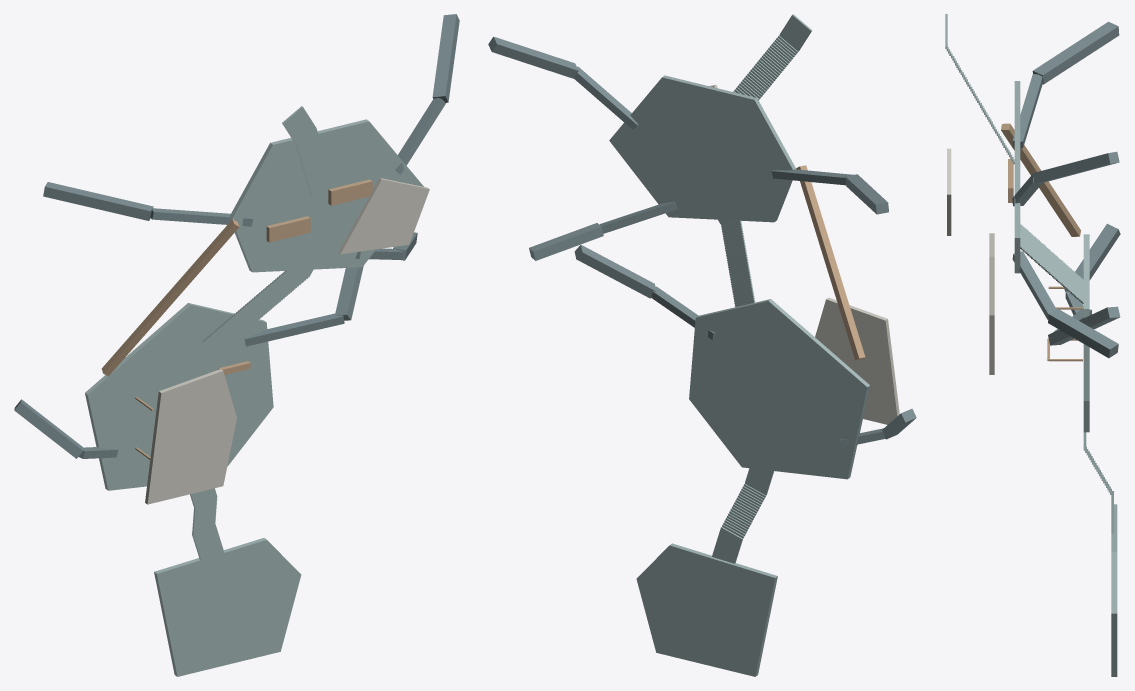
File: minus_living.glb
3 views of the same model, side by side, from view 1: azimuth 30°, elevation 25°; view 2: azimuth 150°, elevation 25°; view 3: azimuth 270°, elevation 25° (orthographic). The views are drawn at different scales.
Visible parts, largest first — view 1: maker_deck, arrival_terrace, research_deck, maker_weather_canopy, research_partial_daylight_shade, route_0_entry, shared_maker_research_transfer, research_rib_0_upper, route_1_exit, research_rib_1_upper, maker_rib_1_lower, maker_rib_0_upper (+6 smaller); view 2: maker_deck, research_deck, arrival_terrace, maker_weather_canopy, shared_maker_research_transfer, research_rib_1_upper, maker_rib_1_upper, research_rib_2_upper, research_rib_1_lower, research_rib_2_lower, research_rib_0_lower, research_rib_0_upper (+3 smaller); view 3: research_rib_0_upper, research_rib_2_upper, shared_maker_research_transfer, research_deck, maker_deck, arrival_terrace, research_rib_1_upper, maker_rib_0_upper, research_rib_2_lower, research_rib_0_lower, maker_weather_canopy, maker_rib_1_upper (+2 smaller).
Part boxes in pixels (<box>): maker_deck: <box>85,303,273,490</box>; arrival_terrace: <box>154,538,301,676</box>; research_deck: <box>230,119,423,272</box>; maker_weather_canopy: <box>145,369,236,504</box>; research_partial_daylight_shade: <box>338,178,429,254</box>; route_0_entry: <box>192,523,242,625</box>; shared_maker_research_transfer: <box>101,219,239,376</box>; research_rib_0_upper: <box>43,182,153,220</box>; route_1_exit: <box>291,205,344,275</box>; research_rib_1_upper: <box>432,14,459,102</box>; maker_rib_1_lower: <box>244,313,344,346</box>; maker_rib_0_upper: <box>14,399,83,458</box>; maker_deck: <box>689,299,869,479</box>; research_deck: <box>609,75,796,222</box>; arrival_terrace: <box>636,543,777,676</box>; maker_weather_canopy: <box>815,297,899,424</box>; shared_maker_research_transfer: <box>796,165,865,360</box>; research_rib_1_upper: <box>488,36,578,78</box>; maker_rib_1_upper: <box>574,245,656,298</box>; research_rib_2_upper: <box>529,223,603,260</box>; research_rib_1_lower: <box>574,66,637,129</box>; research_rib_2_lower: <box>599,201,677,233</box>; research_rib_0_lower: <box>771,169,853,185</box>; research_rib_0_upper: <box>845,174,888,214</box>; research_rib_0_upper: <box>1032,21,1119,84</box>; research_rib_2_upper: <box>1048,308,1118,358</box>; shared_maker_research_transfer: <box>1001,123,1080,236</box>; research_deck: <box>1014,81,1020,273</box>; maker_deck: <box>1083,234,1089,432</box>; arrival_terrace: <box>1111,504,1117,676</box>; research_rib_1_upper: <box>1032,151,1119,183</box>; maker_rib_0_upper: <box>1064,223,1120,291</box>; research_rib_2_lower: <box>1012,251,1056,319</box>; research_rib_0_lower: <box>1012,74,1042,148</box>; maker_weather_canopy: <box>989,233,994,374</box>; maker_rib_1_upper: <box>1048,306,1120,345</box>.
Bounding box in the file's own units: 64.77 × 85.84 × 21.54.
